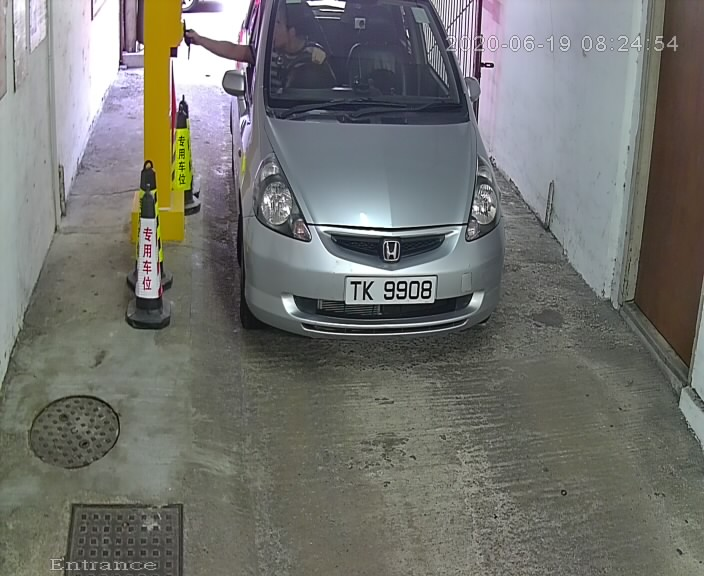bottom_left_lp: (342, 298, 351, 305)
bottom_left_radiator: (326, 248, 337, 256)
bottom_left_windshield: (261, 101, 278, 122)
bottom_right_lp: (431, 298, 438, 304)
bottom_right_radiator: (436, 250, 445, 261)
bottom_right_windshield: (460, 112, 478, 126)
brand: (381, 237, 402, 262)
left_headlight: (251, 150, 317, 246)
right_headlight: (461, 151, 508, 245)
top_left_lp: (343, 273, 351, 284)
top_left_radiator: (313, 221, 323, 235)
top_left_windshield: (266, 1, 281, 14)
top_right_lp: (431, 269, 439, 281)
top_right_radiator: (445, 223, 463, 239)
top_right_windshield: (422, 1, 438, 13)
